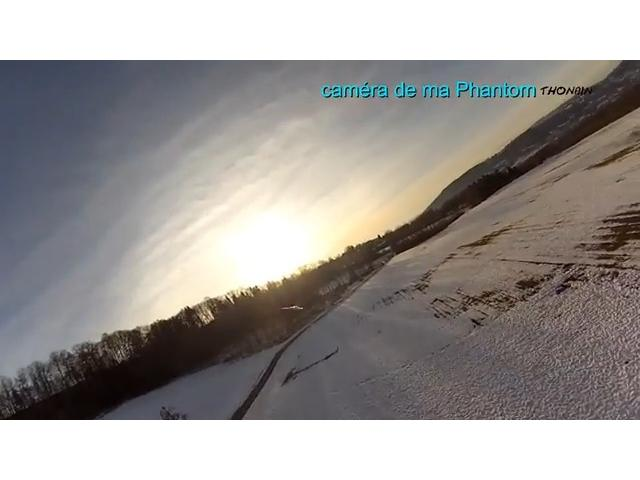Anti-Drone: (275, 302, 317, 320)
